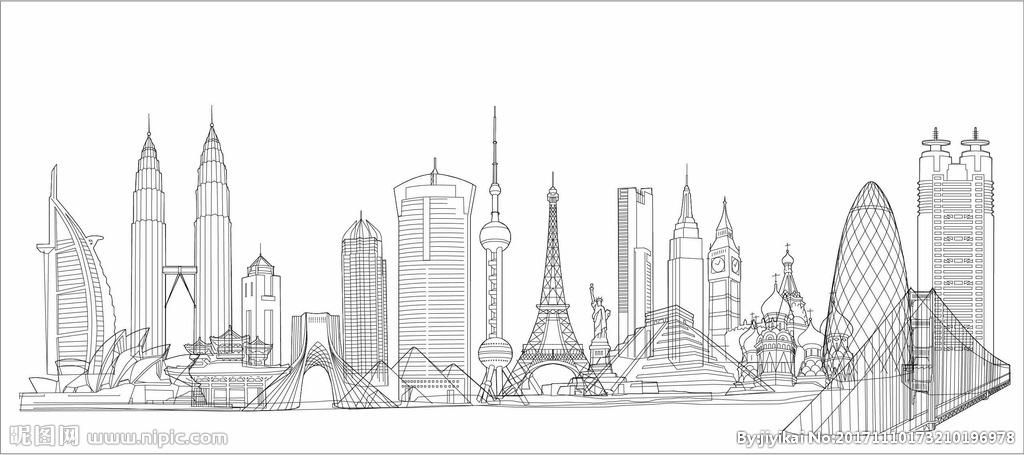buildings: (760, 102, 1008, 442), (107, 102, 293, 419), (602, 159, 807, 433), (356, 130, 508, 440), (37, 142, 150, 437), (459, 96, 547, 452), (512, 147, 615, 427)
